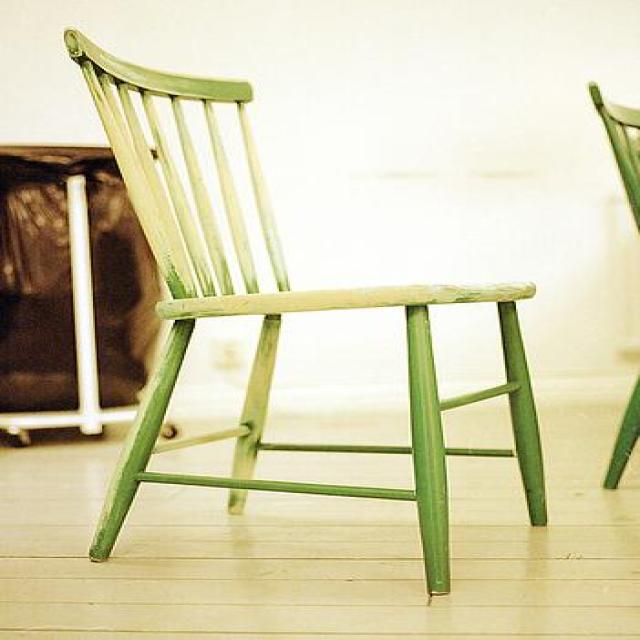chair: (61, 23, 553, 600)
